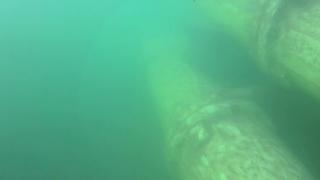pipe: (149, 48, 316, 180), (192, 1, 320, 96)
